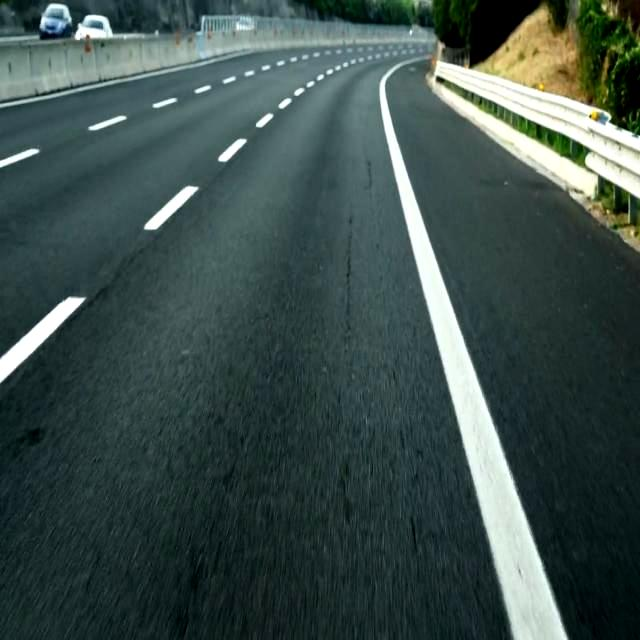lane: (379, 56, 564, 637), (1, 298, 82, 382), (145, 186, 195, 229), (0, 149, 39, 167), (218, 139, 246, 162), (89, 116, 125, 130), (256, 114, 273, 126)
road: (1, 52, 511, 638), (390, 64, 639, 639)
